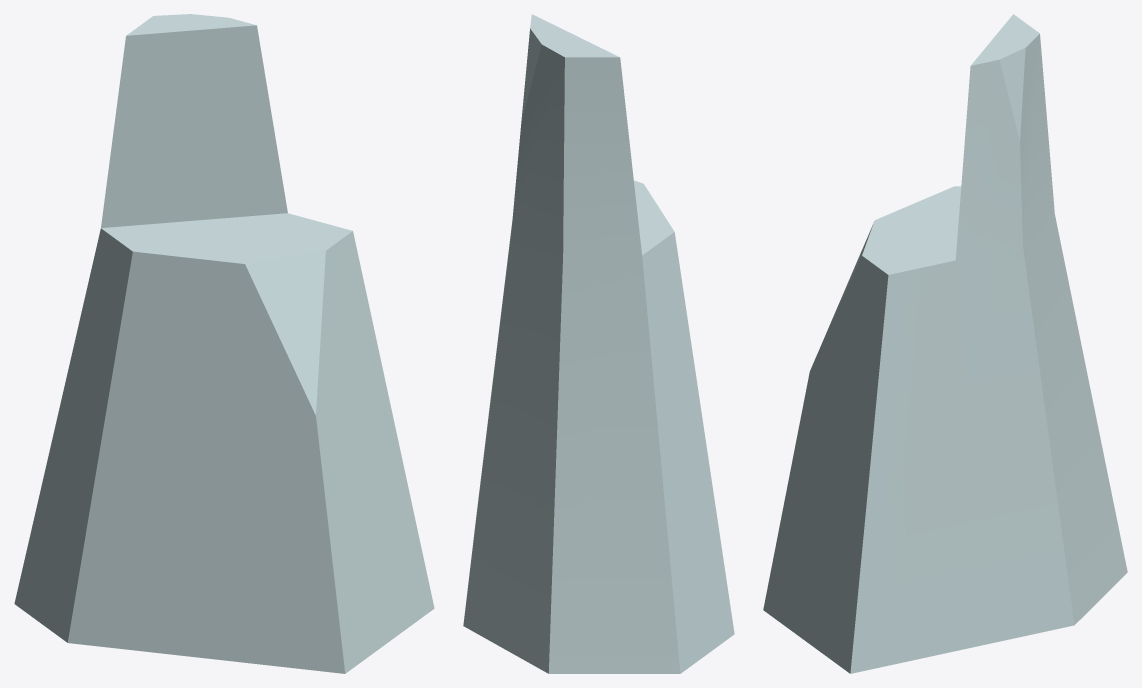
File: stone_tall4.glb
3 renders of one model, left to right at view 1: azimuth 30°, elevation 25°; view 2: azimuth 150°, elevation 25°; view 3: azimuth 270°, elevation 25°, orthographic. The views are drawn at different scales.
Parts seen in each view (by area): view 1: stone_tall4; view 2: stone_tall4; view 3: stone_tall4.
Boxes of the visible parts, <box> form: stone_tall4: <box>14,14,434,673</box>; stone_tall4: <box>463,14,734,673</box>; stone_tall4: <box>763,14,1127,673</box>.
Bounding box in the file's own units: 0.4428 × 0.7721 × 0.4615.
